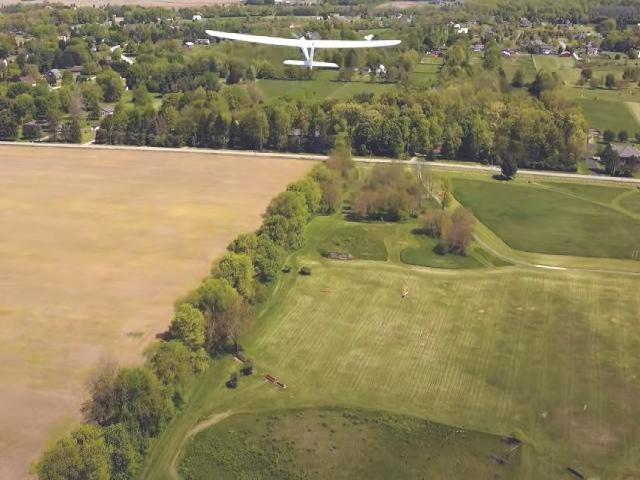iha: (205, 23, 416, 71)
